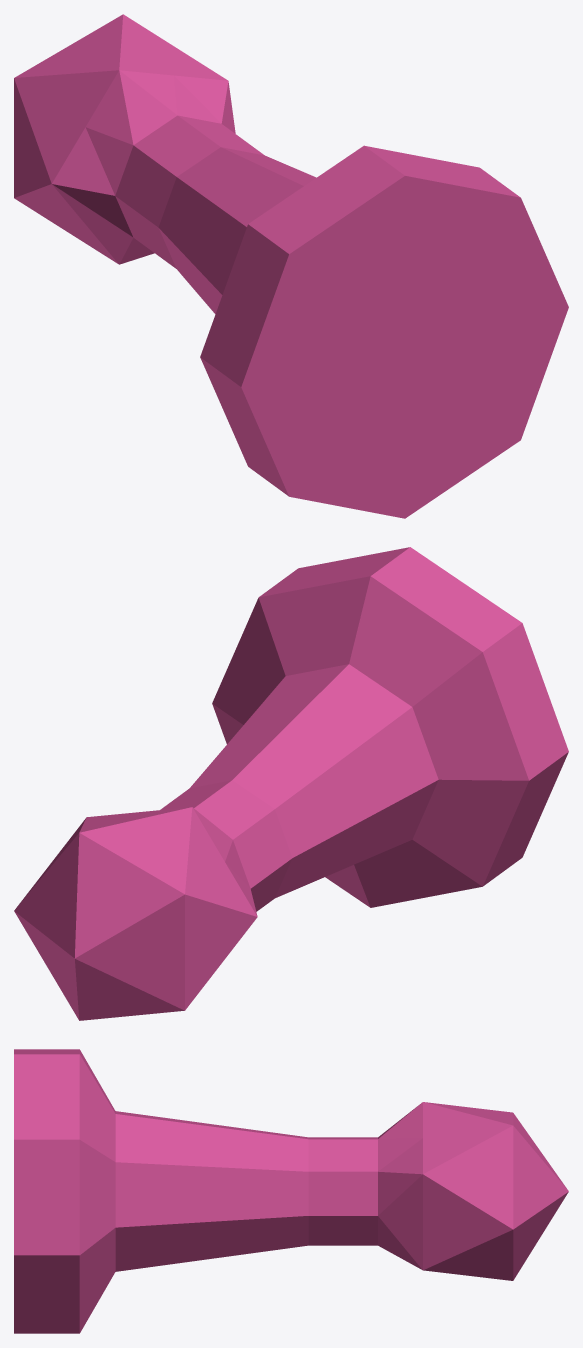
File: Game_Piece_Pink.fbx
The picture shows the model from 3 angles, top to bottom: view 1: azimuth 30°, elevation 25°; view 2: azimuth 150°, elevation 25°; view 3: azimuth 270°, elevation 25°; orthographic projection. The views are drawn at different scales.
Parts seen in each view (by area): view 1: Game_Piece_Pink; view 2: Game_Piece_Pink; view 3: Game_Piece_Pink.
Boxes of the visible parts, <box> form: Game_Piece_Pink: <box>14,14,568,518</box>; Game_Piece_Pink: <box>14,547,568,1020</box>; Game_Piece_Pink: <box>14,1049,568,1333</box>.
Bounding box in the file's own units: 0.6 × 0.6 × 1.1.
Materials: 1 (1 with a texture image).
